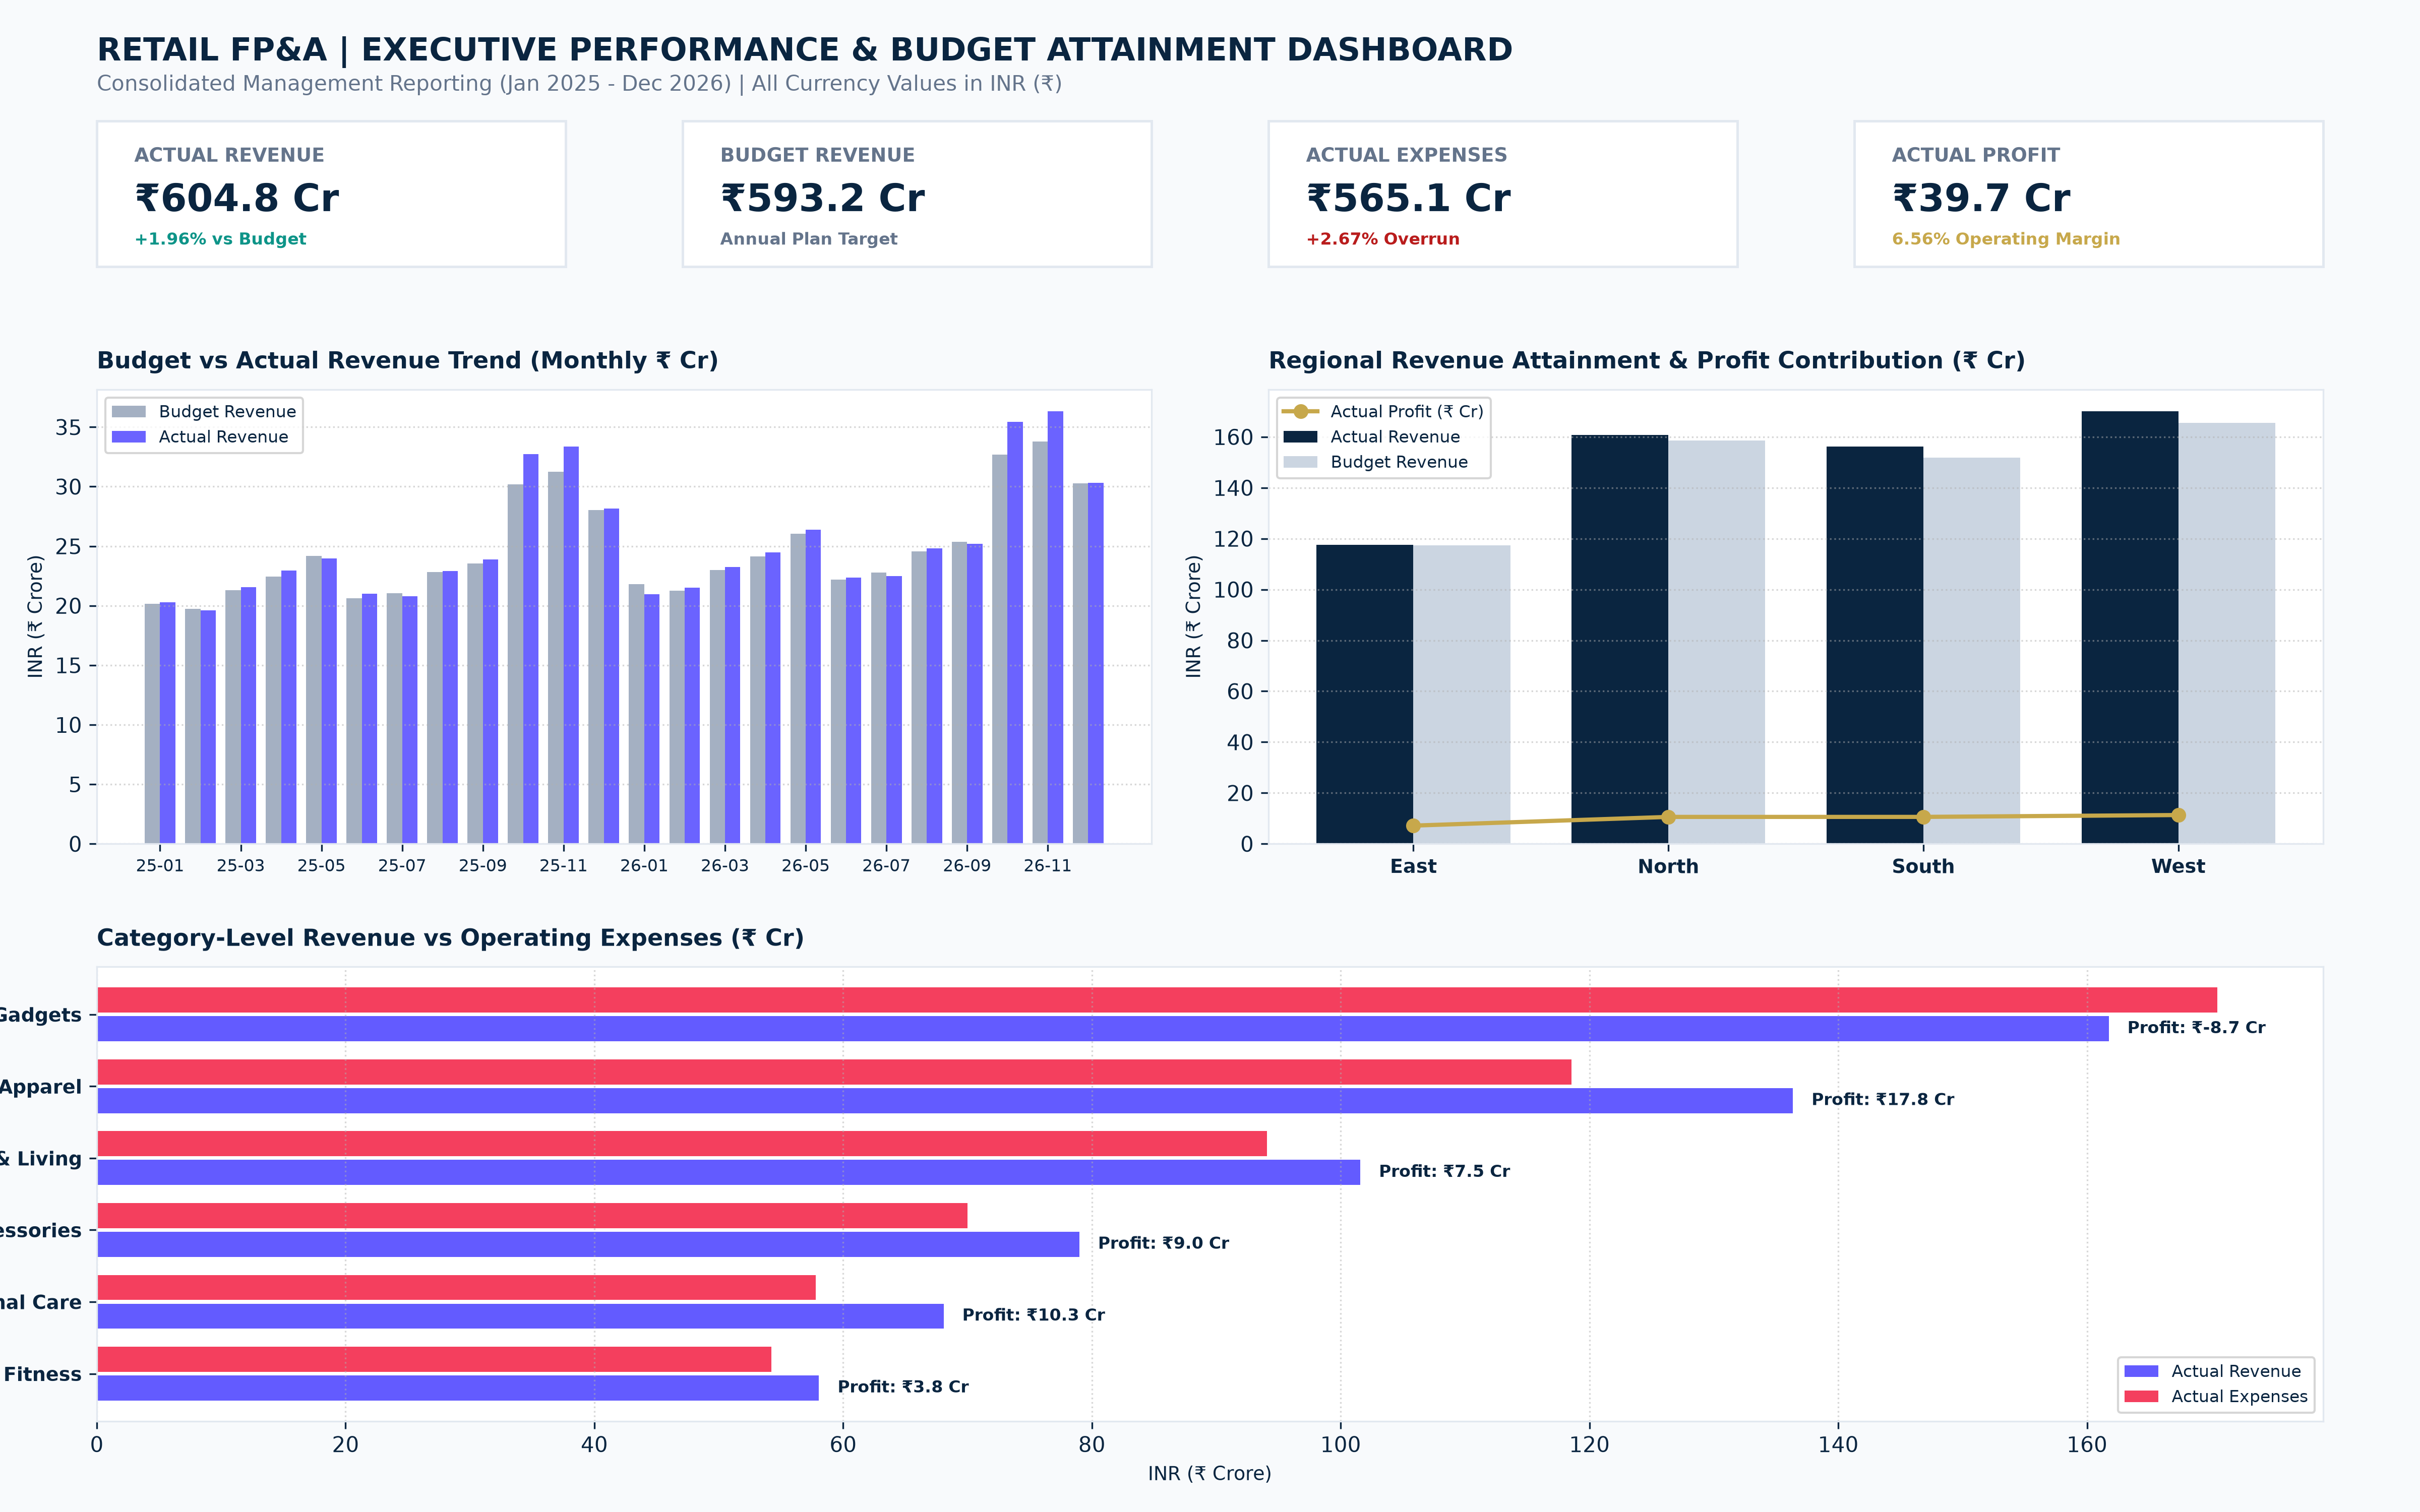

What the dashboard file says about the page in this screenshot:
{"tool":"powerbi","page":{"name":"Executive Summary","canvas":[1280,720],"ordinal":0},"visuals":[{"type":"unknown","box":[20,20,1240,60]},{"type":"unknown","box":[20,90,230,110]},{"type":"unknown","box":[270,90,230,110]},{"type":"unknown","box":[520,90,230,110]},{"type":"unknown","box":[770,90,230,110]},{"type":"unknown","box":[1020,90,240,110]},{"type":"unknown","box":[20,220,600,260]},{"type":"unknown","box":[640,220,620,260]},{"type":"unknown","box":[20,500,1240,190]}]}

Visuals, with their boxes on the page's 1280x720 design canvas (x1, y1, x2, y2). These are canvas units, not pixel positions in the 2420x1512 screenshot, which may show the page scaled, cropped or inside an application window:
unknown: 20/20/1260/80
unknown: 20/90/250/200
unknown: 270/90/500/200
unknown: 520/90/750/200
unknown: 770/90/1000/200
unknown: 1020/90/1260/200
unknown: 20/220/620/480
unknown: 640/220/1260/480
unknown: 20/500/1260/690
